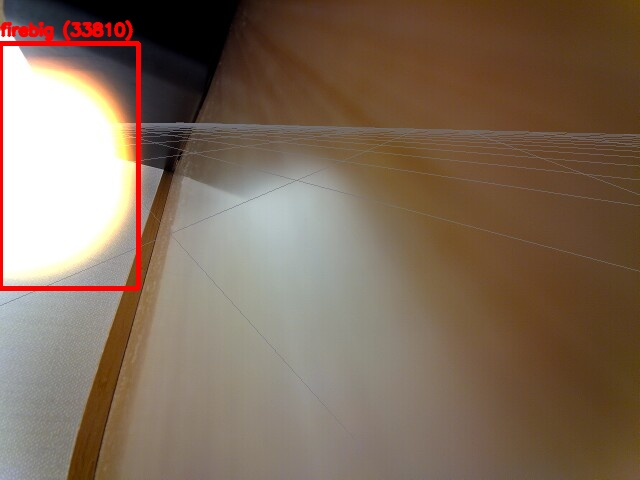firebig: (0, 43, 138, 288)
